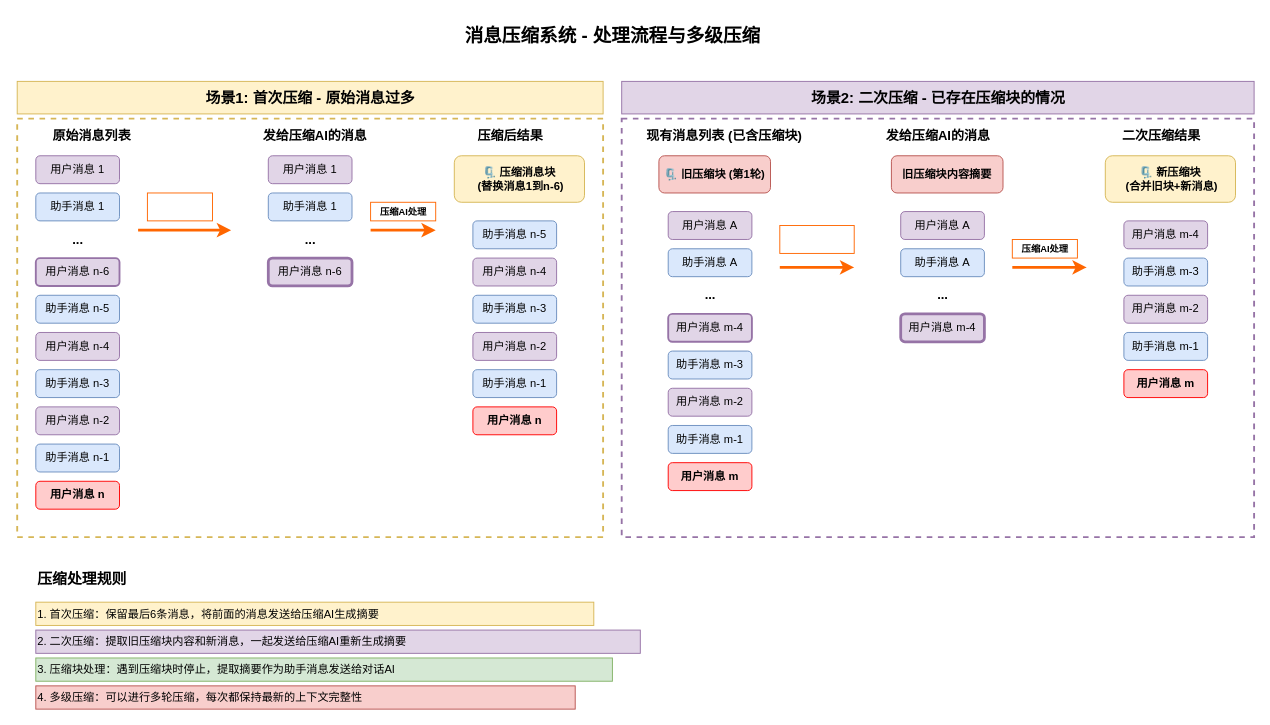
The diagram is 1270 pixels wide and 725 high, and some of its shapes have lost their labels. The centre of each missing label's shape, as x and y in pixels:
提取旧压缩+ 新消息: pixel 816 239
选择要压缩 的消息: pixel 179 206
